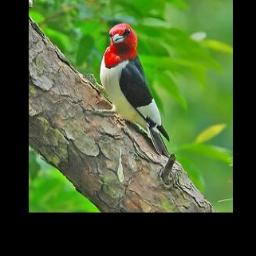Woodpecker: (87, 22, 175, 157)
